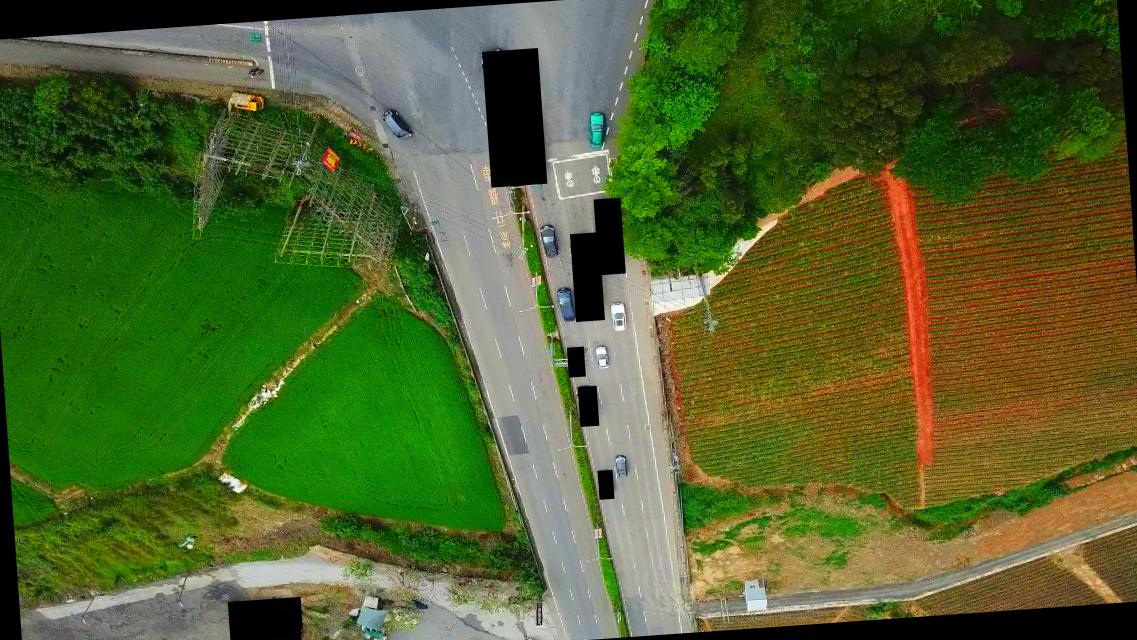vehicle: (381, 108, 412, 142), (232, 92, 266, 113), (587, 113, 606, 149), (556, 288, 576, 322), (540, 222, 558, 258), (608, 301, 626, 334), (614, 453, 630, 479), (594, 345, 610, 371)
